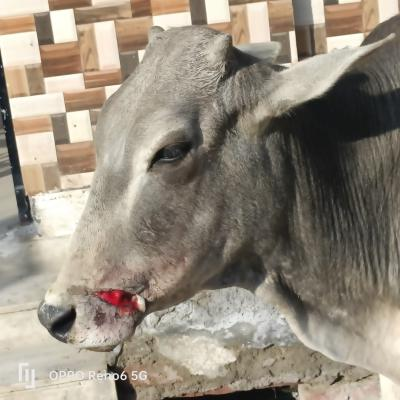cut: (70, 269, 188, 338)
